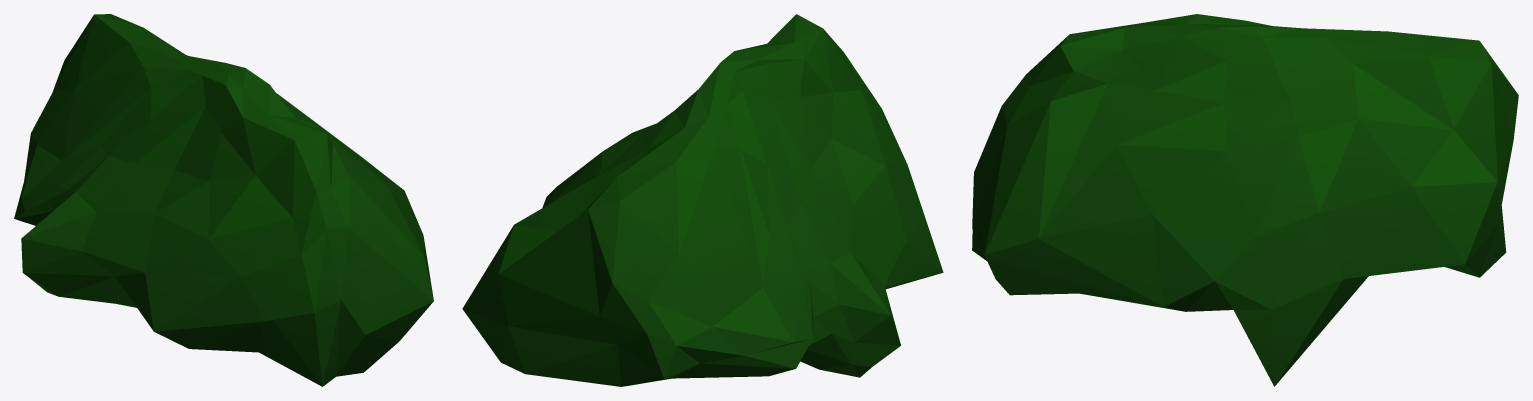
File: mountain.fbx
The picture shows the model from 3 angles, left to right: view 1: azimuth 30°, elevation 25°; view 2: azimuth 150°, elevation 25°; view 3: azimuth 270°, elevation 25°; orthographic projection. The views are drawn at different scales.
Parts seen in each view (by area): view 1: Icosphere; view 2: Icosphere; view 3: Icosphere.
Boxes of the visible parts, x1,y1,x2,y2 form: Icosphere: [14, 14, 433, 386]; Icosphere: [462, 14, 943, 386]; Icosphere: [972, 14, 1518, 386].
Bounding box in the file's own units: 119 × 82.23 × 149.
Materials: 1 (1 with a texture image).
